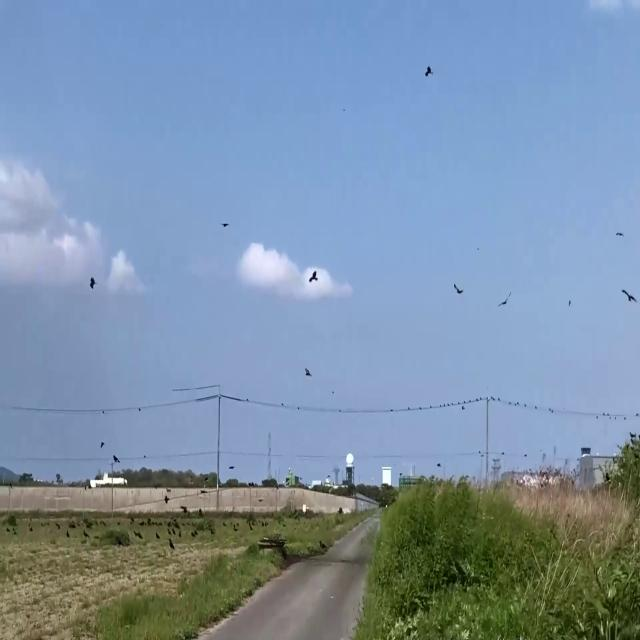bird: (621, 278, 637, 314), (498, 282, 512, 315), (453, 274, 464, 303), (309, 262, 318, 292), (424, 56, 432, 84), (615, 222, 624, 244), (304, 360, 312, 383), (222, 213, 229, 236)
